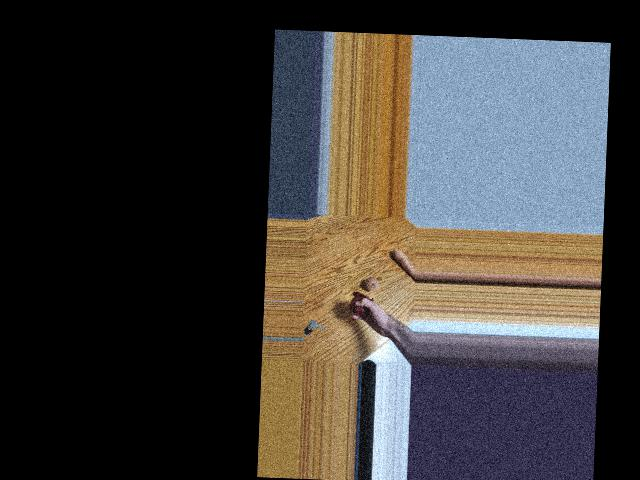onion: (364, 278, 382, 296)
